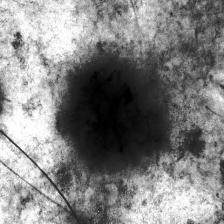Benign Marking or Mole: (62, 62, 169, 169)
